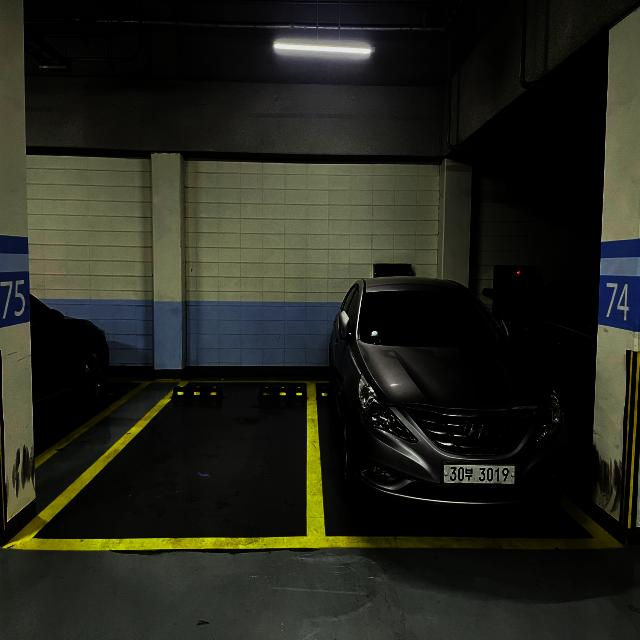empty: (70, 376, 318, 542)
occupied: (338, 275, 570, 550)
